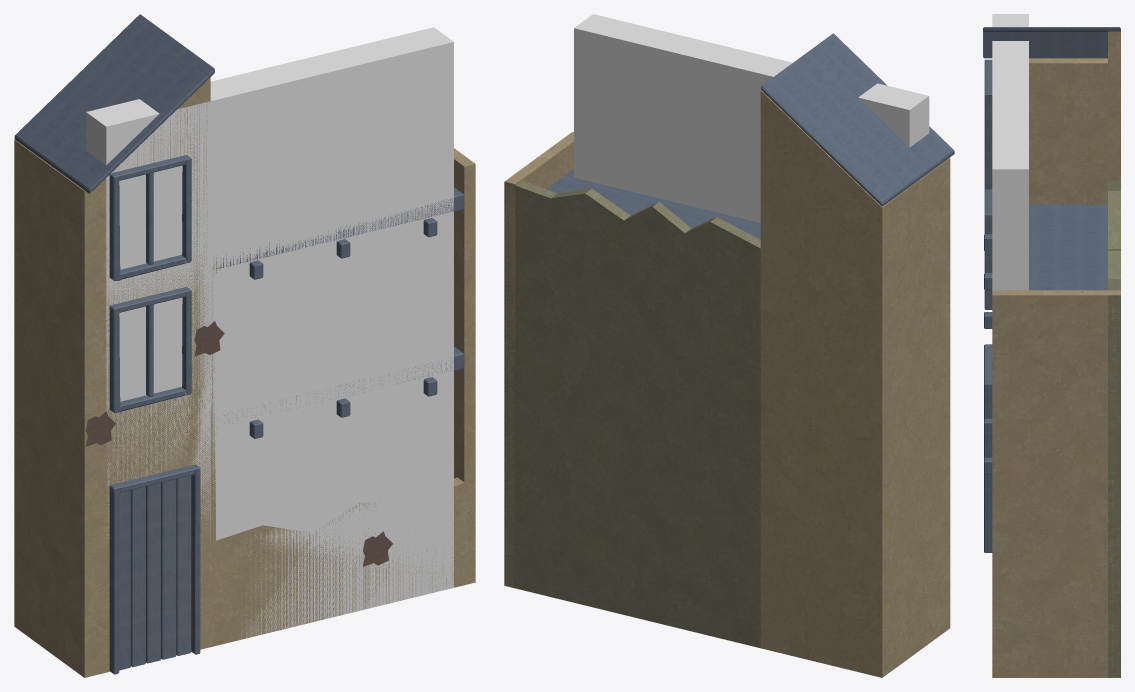
File: env-facade-b.glb
3 views of the same model, side by side, from view 1: azimuth 30°, elevation 25°; view 2: azimuth 150°, elevation 25°; view 3: azimuth 270°, elevation 25° (orthographic). The views are drawn at different scales.
Parts seen in each view (by area): view 1: COL_wall, VIS_plaster, VIS_joinery, VIS_brick; view 2: VIS_plaster, COL_wall, VIS_joinery; view 3: VIS_plaster, VIS_joinery, COL_wall.
Part boxes in pixels (left/top/right/bottom): COL_wall: left=86, top=27, right=453, bottom=666; VIS_plaster: left=14, top=77, right=475, bottom=677; VIS_joinery: left=14, top=14, right=463, bottom=674; VIS_brick: left=85, top=321, right=392, bottom=566; VIS_plaster: left=504, top=90, right=950, bottom=677; COL_wall: left=574, top=14, right=929, bottom=222; VIS_joinery: left=546, top=33, right=954, bottom=239; VIS_plaster: left=992, top=31, right=1120, bottom=677; VIS_joinery: left=983, top=27, right=1120, bottom=552; COL_wall: left=992, top=14, right=1028, bottom=290.
Bounding box in the file's own units: 4.5 × 6.4 × 1.5.
3 materials, 3 textured.
